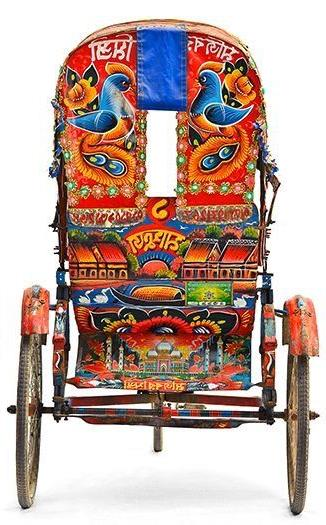Rickshaw: (12, 9, 321, 465)
